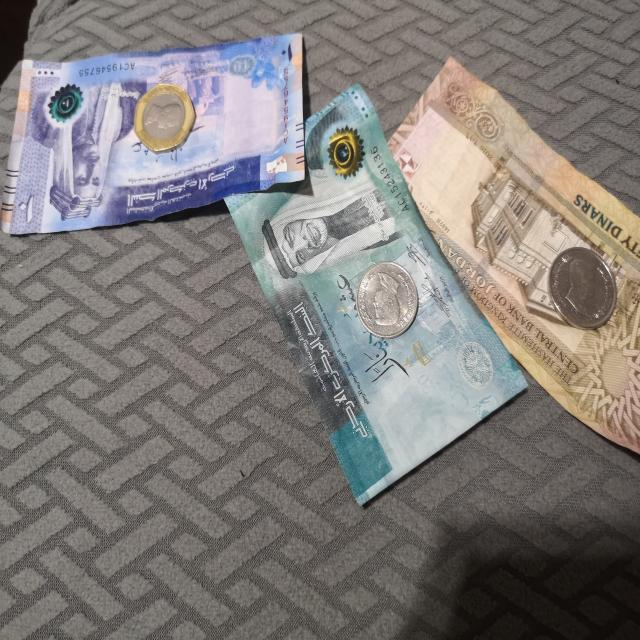10-coins: (549, 246, 615, 330)
10-dinar: (0, 35, 307, 231)
20-dinar: (220, 86, 529, 503)
5-coins: (357, 264, 418, 342)
50-coins: (133, 82, 195, 152)
50-dinar: (387, 57, 640, 454)
